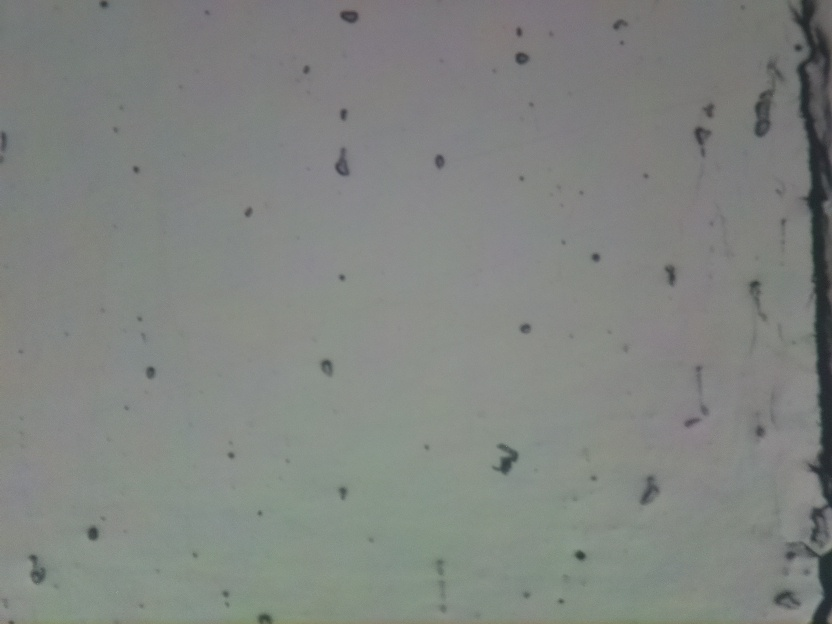crack: (780, 0, 832, 624)
